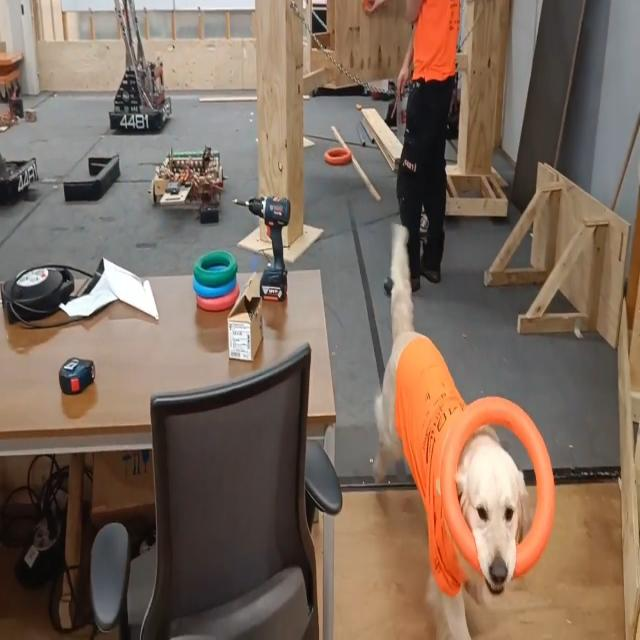note: (442, 394, 556, 581), (322, 141, 353, 168)
robot: (108, 0, 174, 132), (0, 151, 40, 206)
